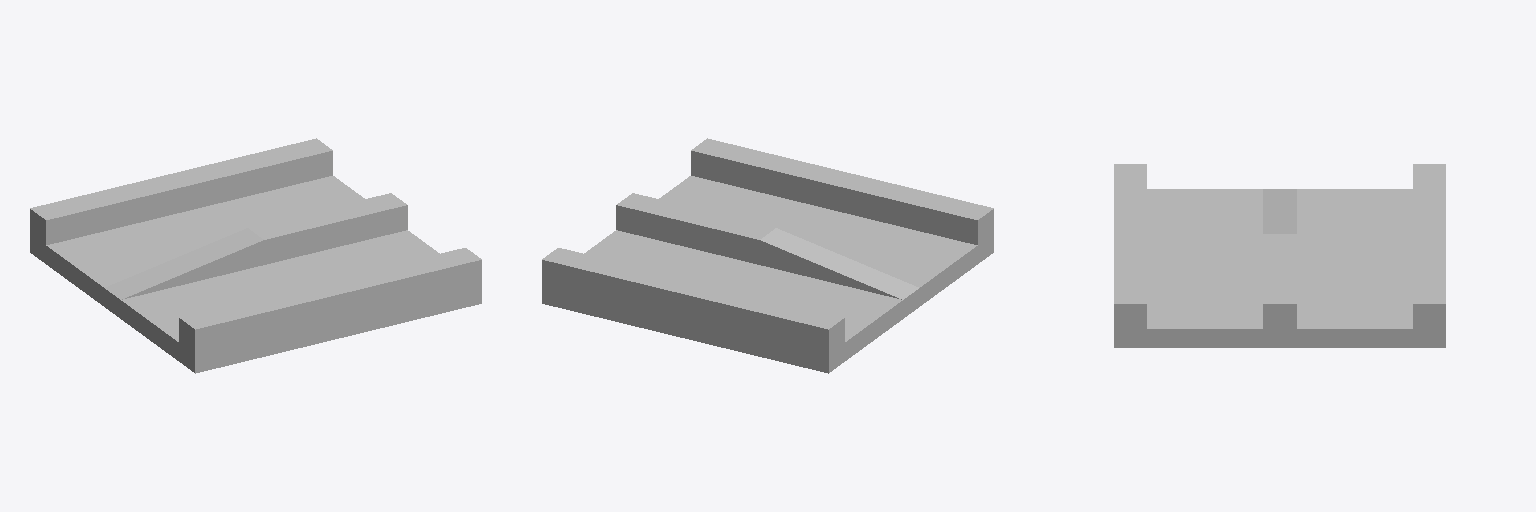
Rendered from splitStart.obj.
3 views of the same model, side by side, from view 1: azimuth 30°, elevation 25°; view 2: azimuth 150°, elevation 25°; view 3: azimuth 270°, elevation 25° (orthographic).
Visible parts, largest first — view 1: splitStart; view 2: splitStart; view 3: splitStart.
Part boxes in pixels (left/top/right/bottom): splitStart: left=30, top=138, right=481, bottom=373; splitStart: left=542, top=138, right=993, bottom=373; splitStart: left=1114, top=164, right=1445, bottom=347.
Bounding box in the file's own units: 0.9999 × 0.1467 × 0.9999.